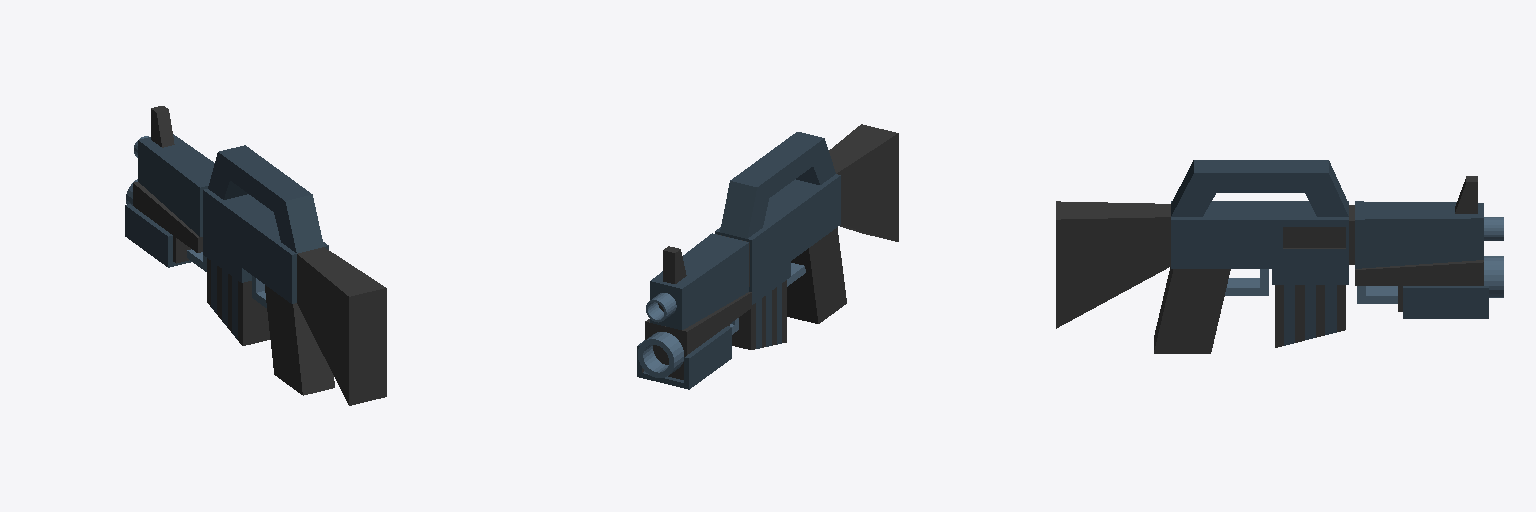
Rendered from machinegunLauncher.obj.
3 views of the same model, side by side, from view 1: azimuth 30°, elevation 25°; view 2: azimuth 150°, elevation 25°; view 3: azimuth 270°, elevation 25° (orthographic).
Visible parts, largest first — view 1: Group; view 2: Group; view 3: Group.
Boxes of the visible parts, <box> form: Group: <box>125,106,386,405</box>; Group: <box>637,124,898,389</box>; Group: <box>1056,160,1503,353</box>.
Bounding box in the file's own units: 0.0804 × 0.2641 × 0.5972.